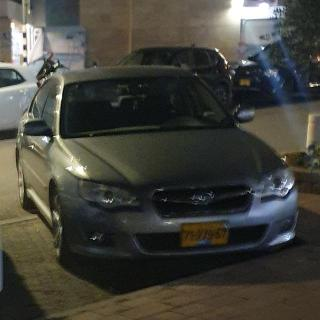LicensePlate: (181, 220, 229, 240)
